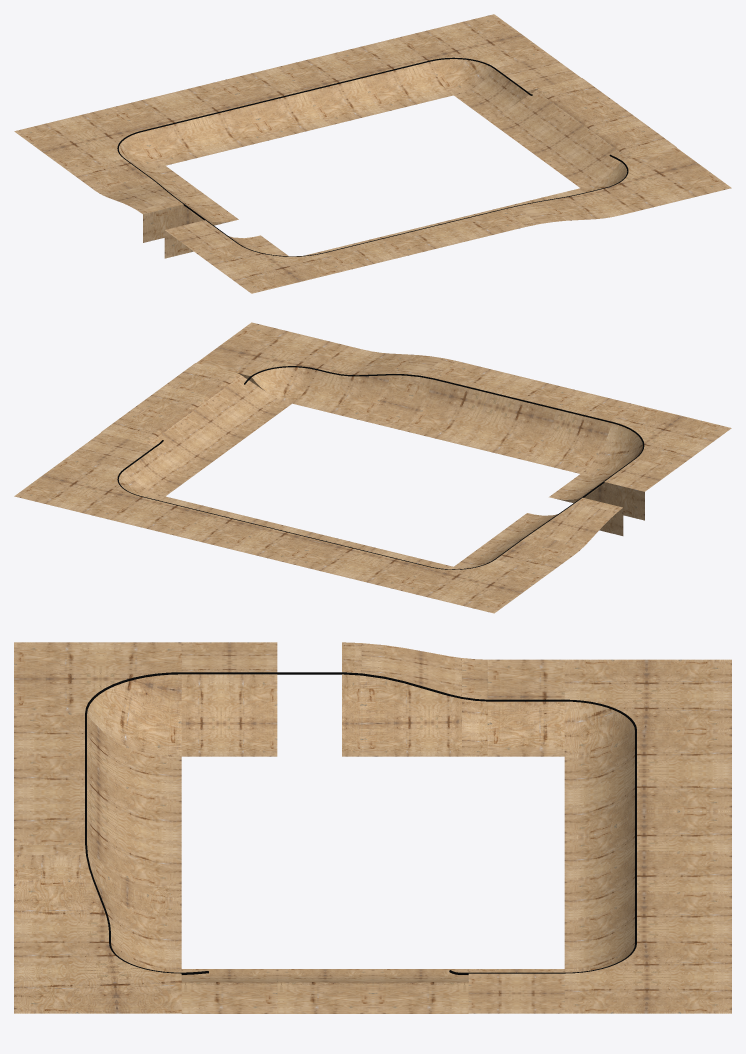
Rendered from nova_45.fbx.
The picture shows the model from 3 angles, top to bottom: view 1: azimuth 30°, elevation 25°; view 2: azimuth 150°, elevation 25°; view 3: azimuth 270°, elevation 25°; orthographic projection. The views are drawn at different scales.
Visible parts, largest first — view 1: bowl, bowl.45, bowl_coping; view 2: bowl, bowl.45, bowl_coping; view 3: bowl, bowl.45, bowl_coping.
Boxes of the visible parts, x1=… form: bowl: x1=14, y1=14, x2=731, y2=293; bowl.45: x1=486, y1=78, x2=676, y2=187; bowl_coping: x1=117, y1=57, x2=628, y2=256; bowl: x1=14, y1=322, x2=731, y2=613; bowl.45: x1=101, y1=363, x2=291, y2=472; bowl_coping: x1=117, y1=366, x2=644, y2=569; bowl: x1=14, y1=642, x2=731, y2=1013; bowl.45: x1=181, y1=969, x2=468, y2=1013; bowl_coping: x1=85, y1=672, x2=636, y2=974.
Size of the model in its own units: 3504 by 202 by 3001.
